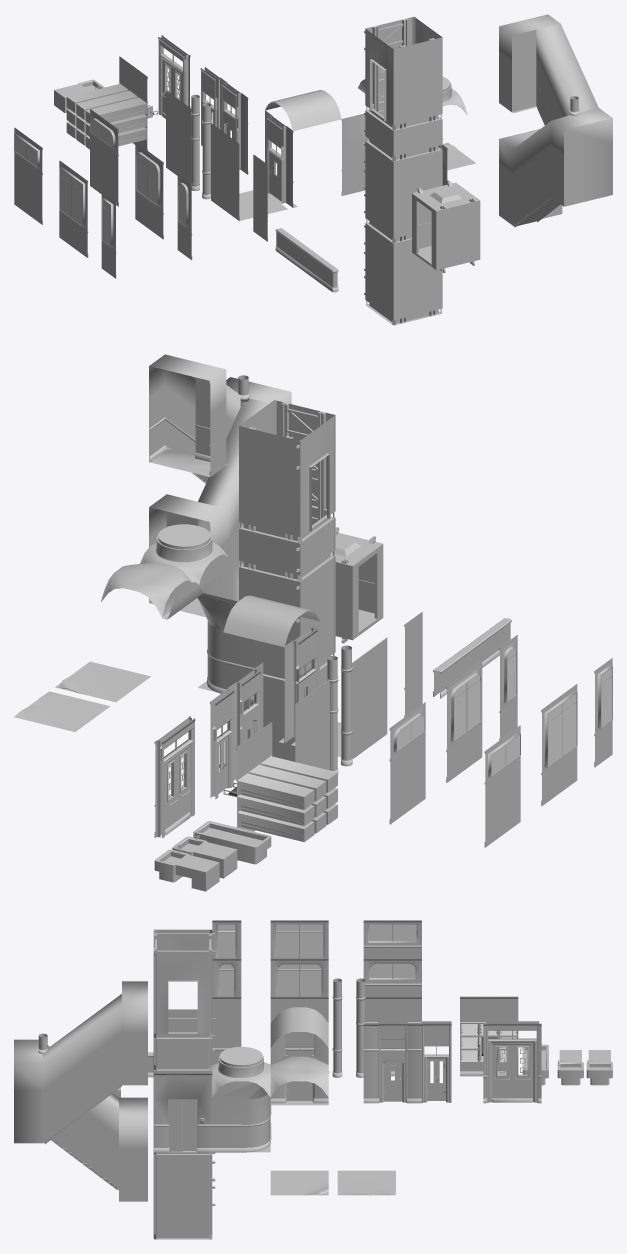
The model's file is hospital_segments.fbx.
The picture shows the model from 3 angles, top to bottom: view 1: azimuth 30°, elevation 25°; view 2: azimuth 150°, elevation 25°; view 3: azimuth 270°, elevation 25°; orthographic projection. The views are drawn at different scales.
Visible parts, largest first — view 1: stairsHall, liftShaft_D, liftShaft_A, elevator_B, liftShaft_B, wall_morgue, liftShaft_C, wallA, wallB, wallB_window_B, wallB_window_A, wall_roundCorner (+24 smaller); view 2: stairsHall, liftShaft_D, wall_morgue, liftShaft_B, elevator_B, wall_roundCorner, liftShaft_C, wallA, wallB_window_B, wallB_window_A, roundCeiling, roundCeiling_skylight (+28 smaller); view 3: stairsHall, liftShaft_D, liftShaft_A, wall_roundCorner, wall_morgue, wall_elevator, wallB_transition, liftShaft_C, roundCeiling_skylight, wallB, wallA_half, wallB_window_B (+34 smaller).
Boxes of the visible parts, left/top/right/bottom form: stairsHall: left=499, top=14, right=612, bottom=227; liftShaft_D: left=364, top=16, right=442, bottom=130; liftShaft_A: left=364, top=223, right=442, bottom=325; elevator_B: left=412, top=180, right=480, bottom=272; liftShaft_B: left=364, top=141, right=442, bottom=243; wall_morgue: left=66, top=56, right=147, bottom=150; liftShaft_C: left=364, top=107, right=442, bottom=161; wallA: left=211, top=123, right=239, bottom=220; wallB: left=166, top=90, right=191, bottom=182; wallB_window_B: left=90, top=109, right=118, bottom=206; wallB_window_A: left=14, top=127, right=42, bottom=224; wall_roundCorner: left=341, top=113, right=369, bottom=195; stairsHall: left=149, top=354, right=291, bottom=616; liftShaft_D: left=239, top=400, right=335, bottom=543; wall_morgue: left=236, top=722, right=337, bottom=842; liftShaft_B: left=239, top=556, right=335, bottom=680; elevator_B: left=330, top=527, right=383, bottom=643; wall_roundCorner: left=197, top=566, right=258, bottom=701; liftShaft_C: left=239, top=513, right=335, bottom=581; wallA: left=352, top=637, right=387, bottom=758; wallB_window_B: left=389, top=702, right=425, bottom=824; wallB_window_A: left=484, top=725, right=520, bottom=847; roundCeiling: left=223, top=595, right=319, bottom=647; roundCeiling_skylight: left=140, top=524, right=227, bottom=584; stairsHall: left=14, top=981, right=147, bottom=1201; liftShaft_D: left=153, top=929, right=215, bottom=1038; liftShaft_A: left=153, top=1152, right=215, bottom=1239; wall_roundCorner: left=212, top=1048, right=271, bottom=1152; wall_morgue: left=460, top=996, right=518, bottom=1076; wall_elevator: left=154, top=1073, right=212, bottom=1152; wallB_transition: left=363, top=1022, right=421, bottom=1103; liftShaft_C: left=153, top=1015, right=215, bottom=1070; roundCeiling_skylight: left=212, top=1047, right=270, bottom=1097; wallB: left=365, top=996, right=421, bottom=1076; wallA_half: left=212, top=996, right=241, bottom=1064; wallB_window_B: left=363, top=958, right=421, bottom=996.
Size of the model in its own units: 165 by 108 by 206.
